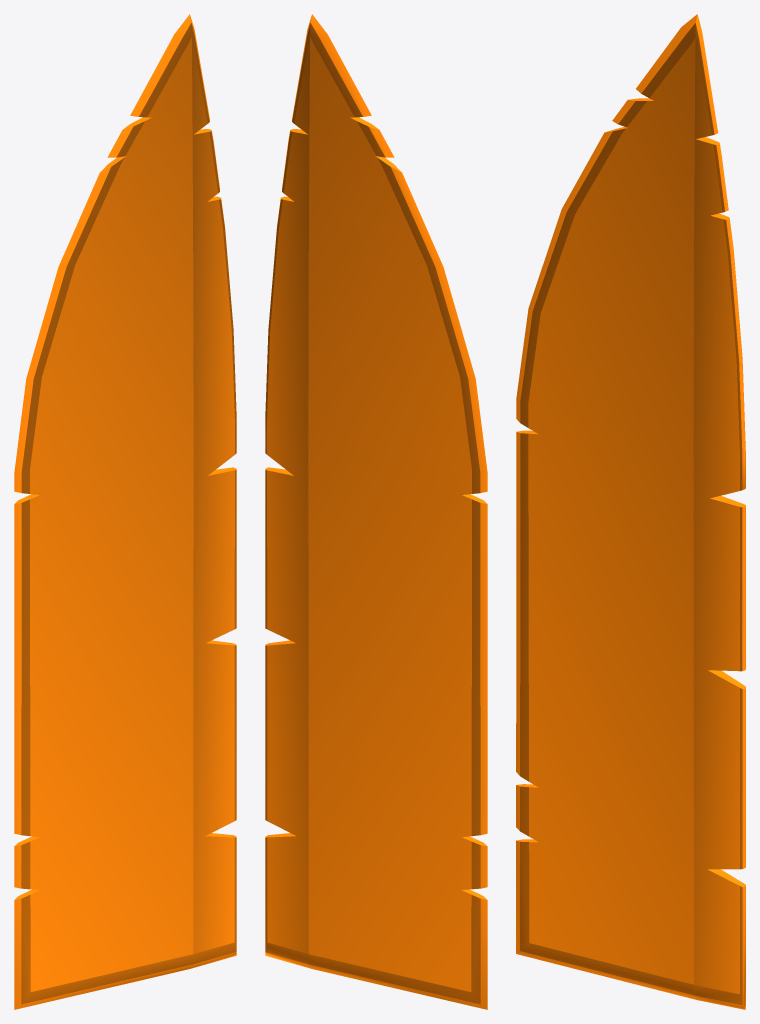
The model's file is bronze_blade_scratched_035.glb.
3 renders of one model, left to right at view 1: azimuth 30°, elevation 25°; view 2: azimuth 150°, elevation 25°; view 3: azimuth 330°, elevation 25°, orthographic. The views are drawn at different scales.
Parts seen in each view (by area): view 1: bronze_blade_scratched.035; view 2: bronze_blade_scratched.035; view 3: bronze_blade_scratched.035.
Boxes of the visible parts, x1=… form: bronze_blade_scratched.035: x1=14, y1=14, x2=236, y2=1009; bronze_blade_scratched.035: x1=265, y1=14, x2=487, y2=1009; bronze_blade_scratched.035: x1=516, y1=14, x2=745, y2=1009.
Size of the model in its own units: 2.79 by 11.43 by 0.1594.
Materials: 1 (1 with a texture image).
